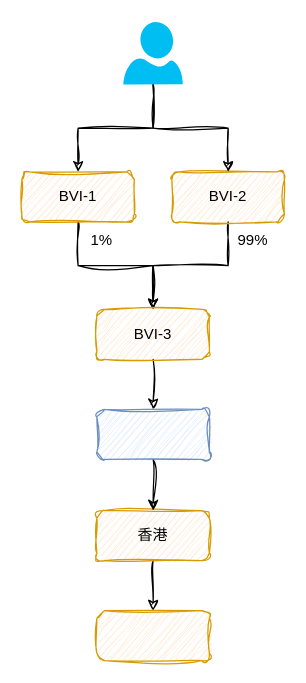
Some shapes in this 306 by 683 pixel diagram are drawn without their labels. The box of each missing label's shape, as (x1, y1, x2, y2) in pixels:
中国大陆: (96, 609, 209, 661)
开曼 （上市公司）: (96, 408, 209, 459)
